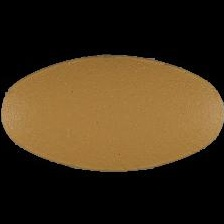61786-699: (0, 0, 224, 224)
